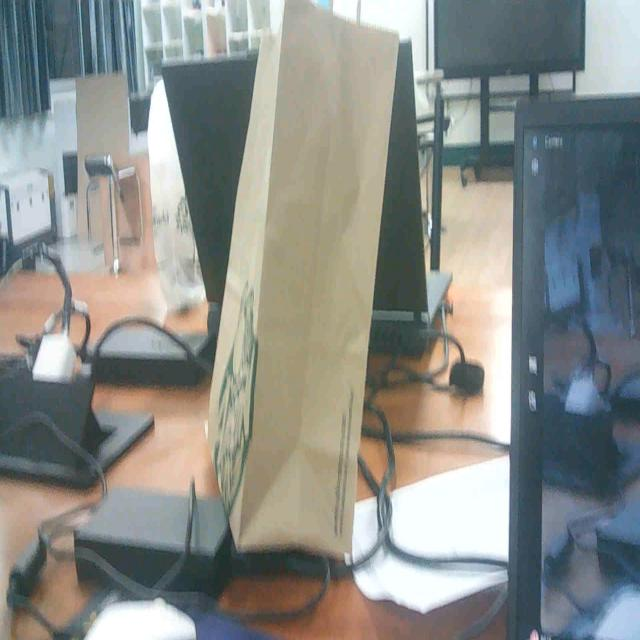bag: (186, 0, 400, 568)
